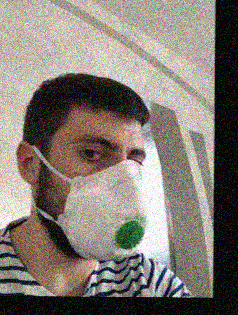with_mask: (47, 123, 151, 262)
